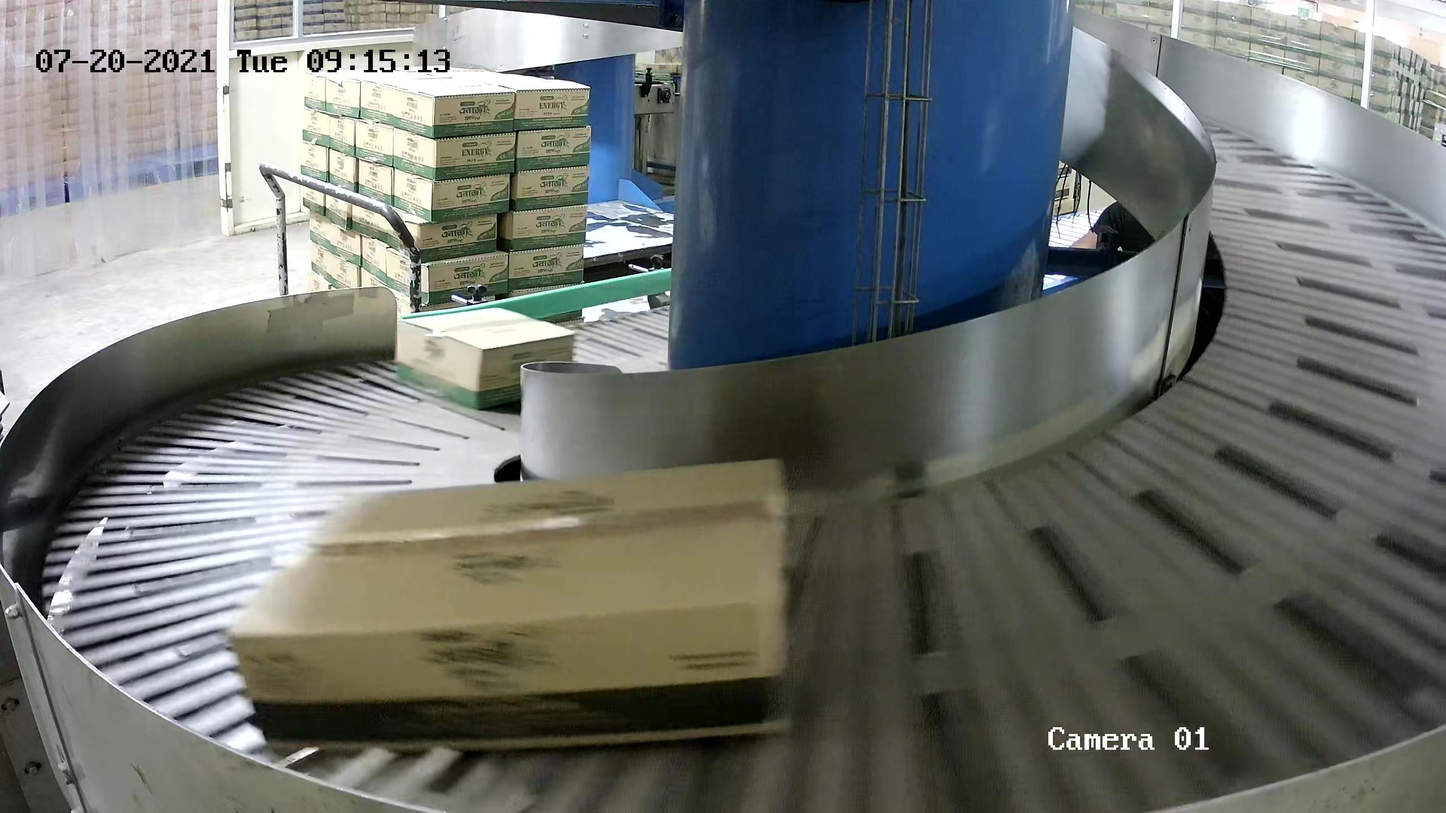Box: (229, 456, 790, 751), (397, 307, 575, 412)
